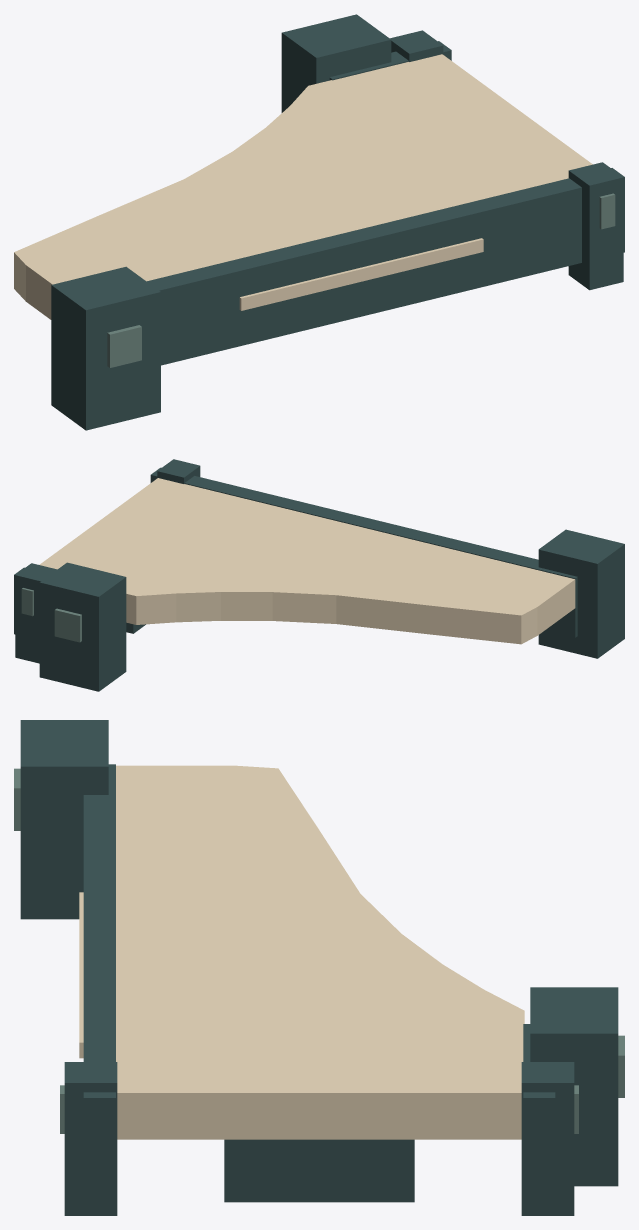
Rendered from Pier_Angled_80.glb.
The picture shows the model from 3 angles, top to bottom: view 1: azimuth 30°, elevation 25°; view 2: azimuth 150°, elevation 25°; view 3: azimuth 270°, elevation 25°; orthographic projection. The views are drawn at different scales.
Parts seen in each view (by area): view 1: Pier_Angled_80; view 2: Pier_Angled_80; view 3: Pier_Angled_80.
Boxes of the visible parts, x1=… form: Pier_Angled_80: x1=14, y1=14, x2=624, y2=430; Pier_Angled_80: x1=14, y1=459, x2=624, y2=691; Pier_Angled_80: x1=14, y1=720, x2=624, y2=1215.
Size of the model in its own units: 5.64 by 1.15 by 4.17.
